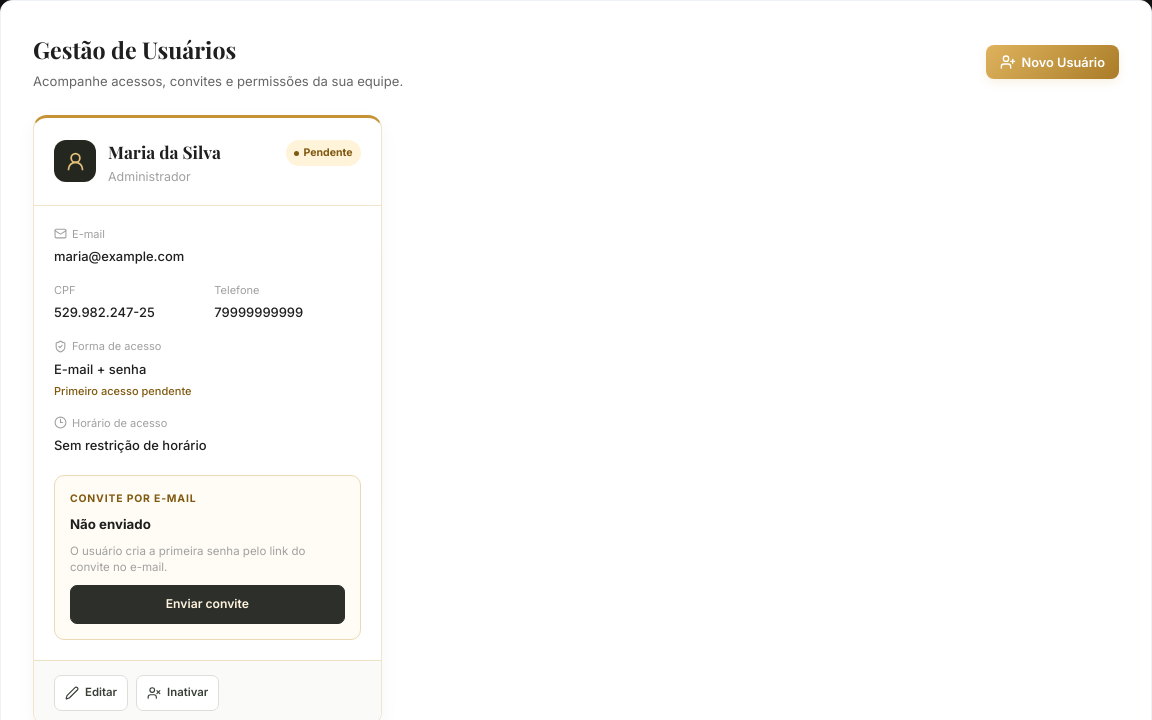
Test: cadastro de usuário por convite › consulta o status mesmo se perder a resposta do envio para não manter Não enviado incorretamente
Expected: the text "Não enviado" is shown, [70,514,151,533]
Click the button "Enviar convite": coordinates (207, 604) [70,585,345,624]
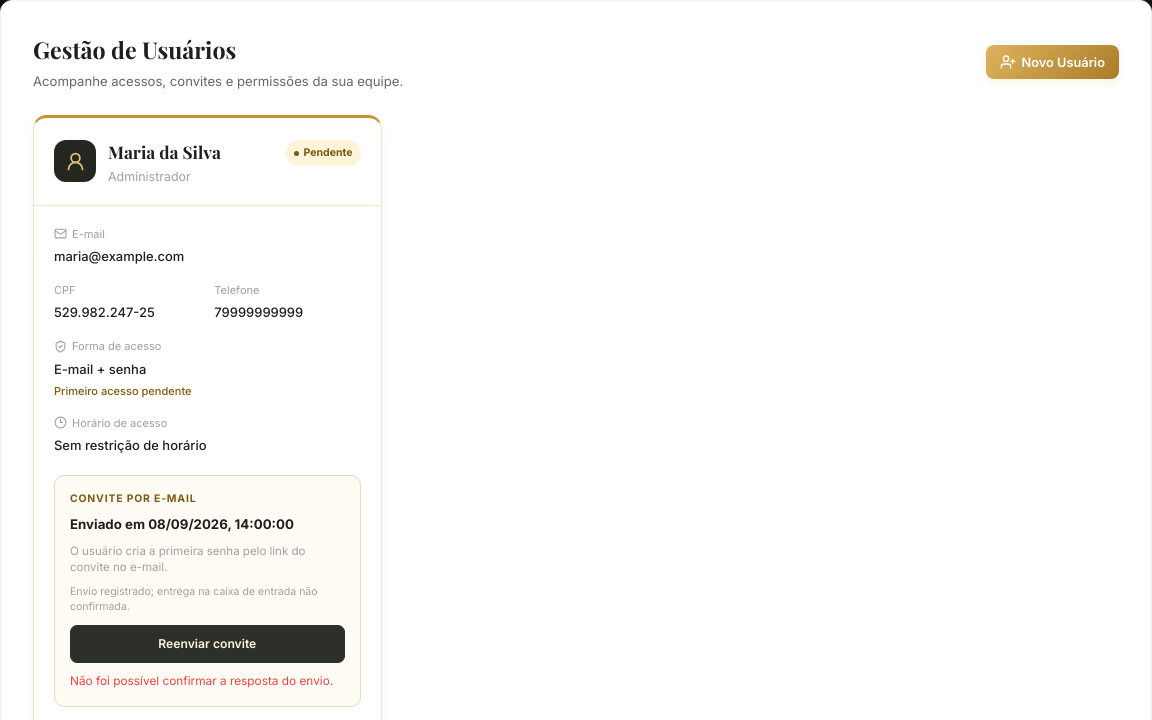
Expected: the message "Não foi possível confirmar a resposta do envio." is shown, [70,673,333,691]
Expected: the text "Enviado em 08/09/2026, 14:00:00" is shown, [70,514,294,533]
Expected: the text "Não enviado" is gone
